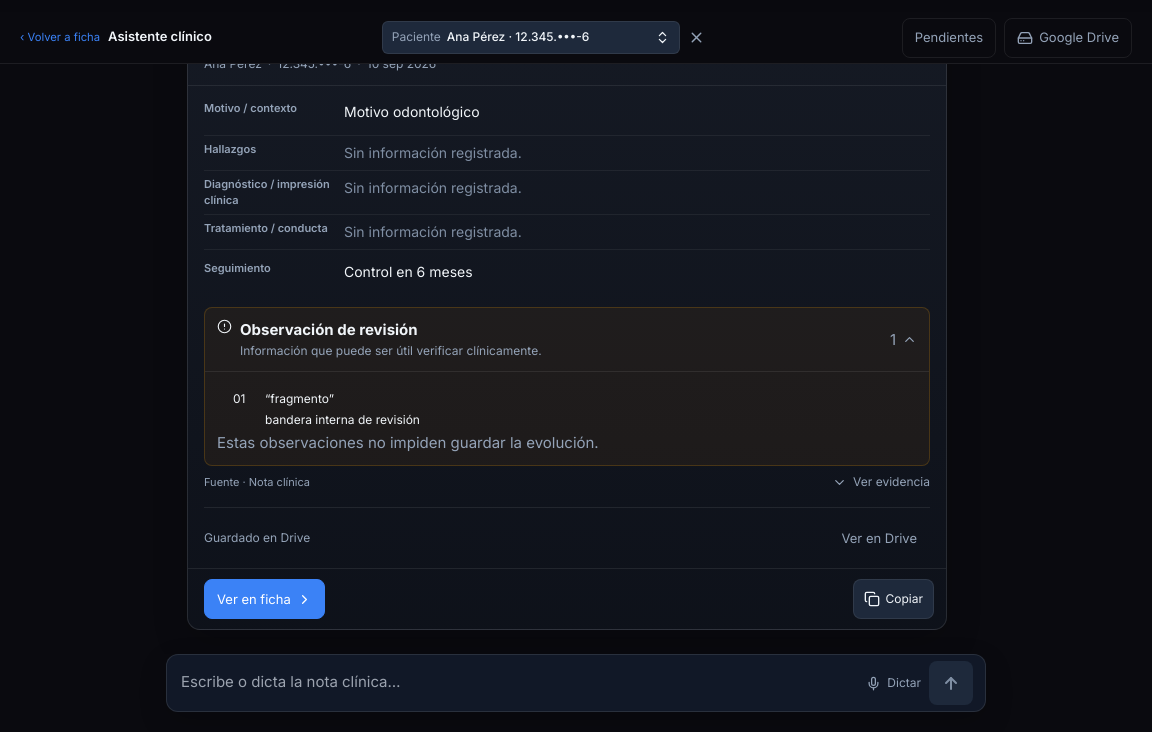
Test case: Clinical Assistant Drive transfer › carries the exact artifact journal target through the page into the reader
(page scrolled)
Click the button "Ver en Drive".
click(879, 538)  # box [828,518,930,558]
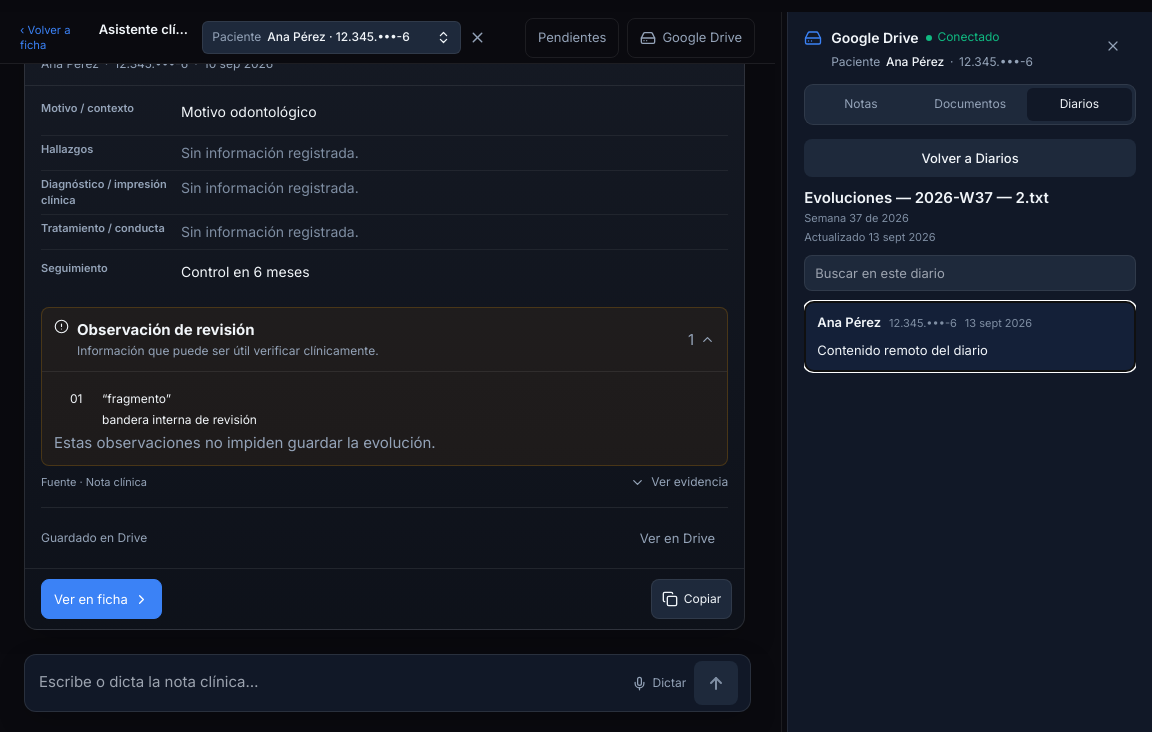
Result: the text "Contenido remoto del diario" is shown at [817,342,988,358]
